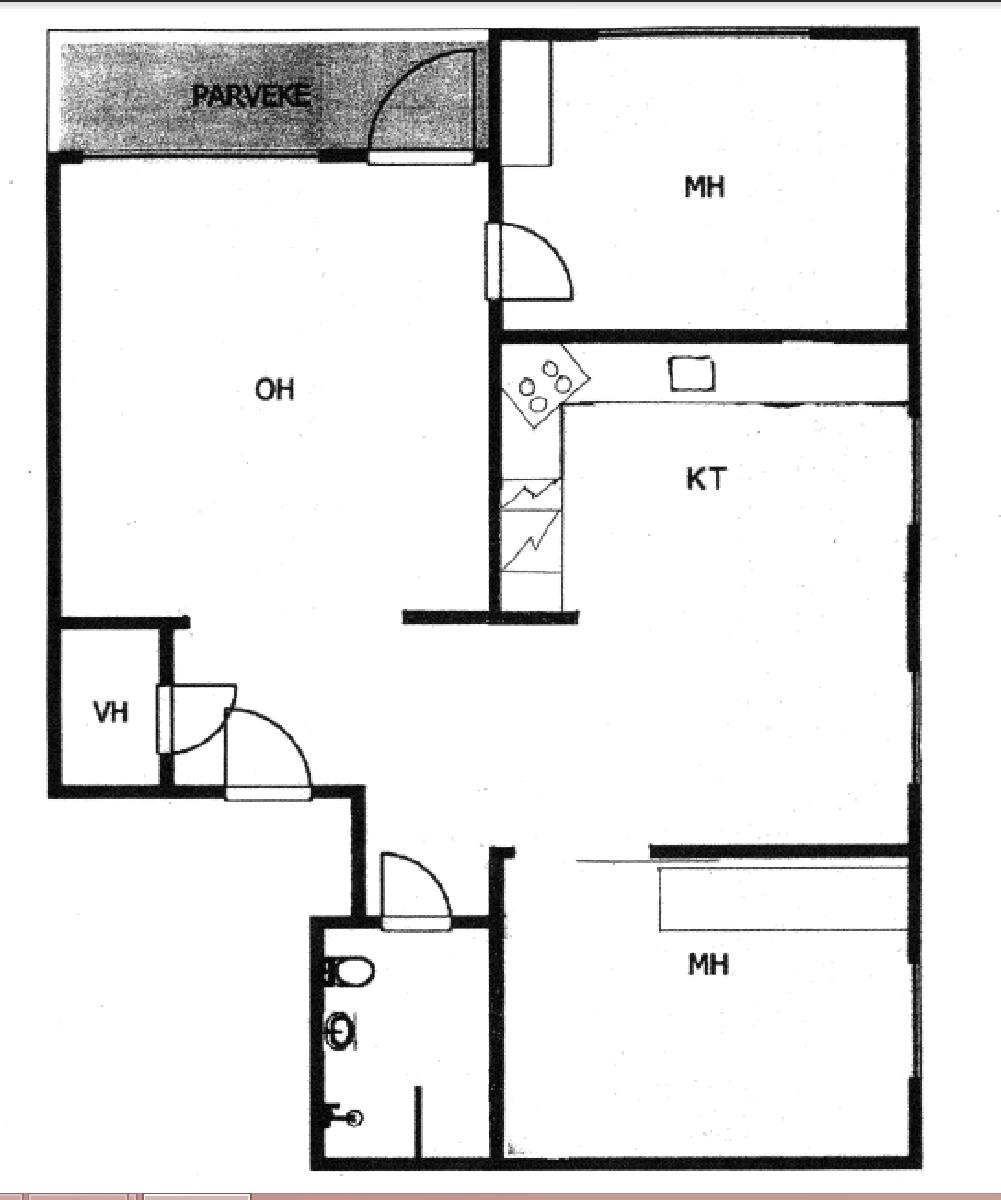door: (373, 43, 482, 178), (215, 705, 319, 804), (378, 848, 453, 941), (491, 218, 570, 305), (157, 682, 244, 749)
window: (67, 151, 315, 167), (902, 673, 926, 785), (901, 416, 920, 525)
zone: (55, 163, 905, 844), (493, 39, 910, 329), (505, 857, 911, 1154), (48, 29, 487, 146), (325, 922, 487, 1153), (52, 627, 164, 787)
